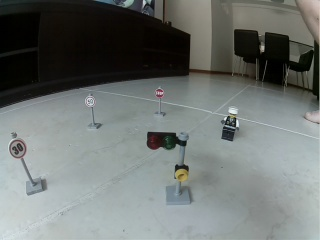Person: (219, 105, 241, 142)
Red Traffic Light: (145, 130, 191, 206)
Speed Limit 30: (8, 139, 26, 159)
Speed Limit 50: (84, 95, 95, 107)
Stop Sign: (155, 88, 166, 97)
